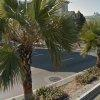Tree: (4, 2, 89, 74)
